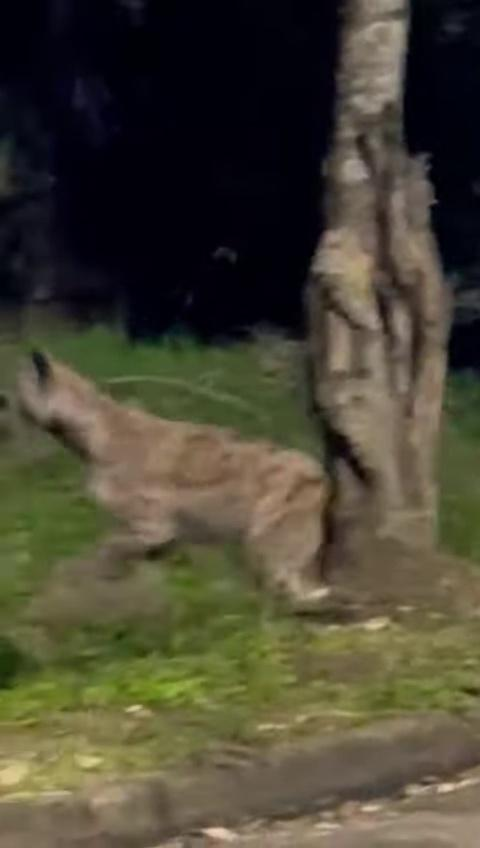lions: (0, 329, 398, 646)
